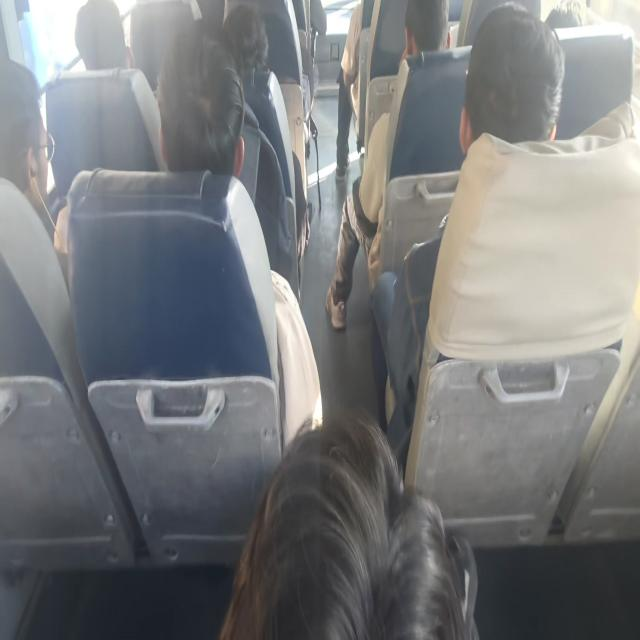person: (223, 404, 495, 640), (451, 10, 577, 153), (157, 22, 248, 170), (0, 67, 53, 200), (218, 12, 274, 92), (68, 0, 122, 81), (396, 0, 459, 47), (539, 0, 592, 41)
